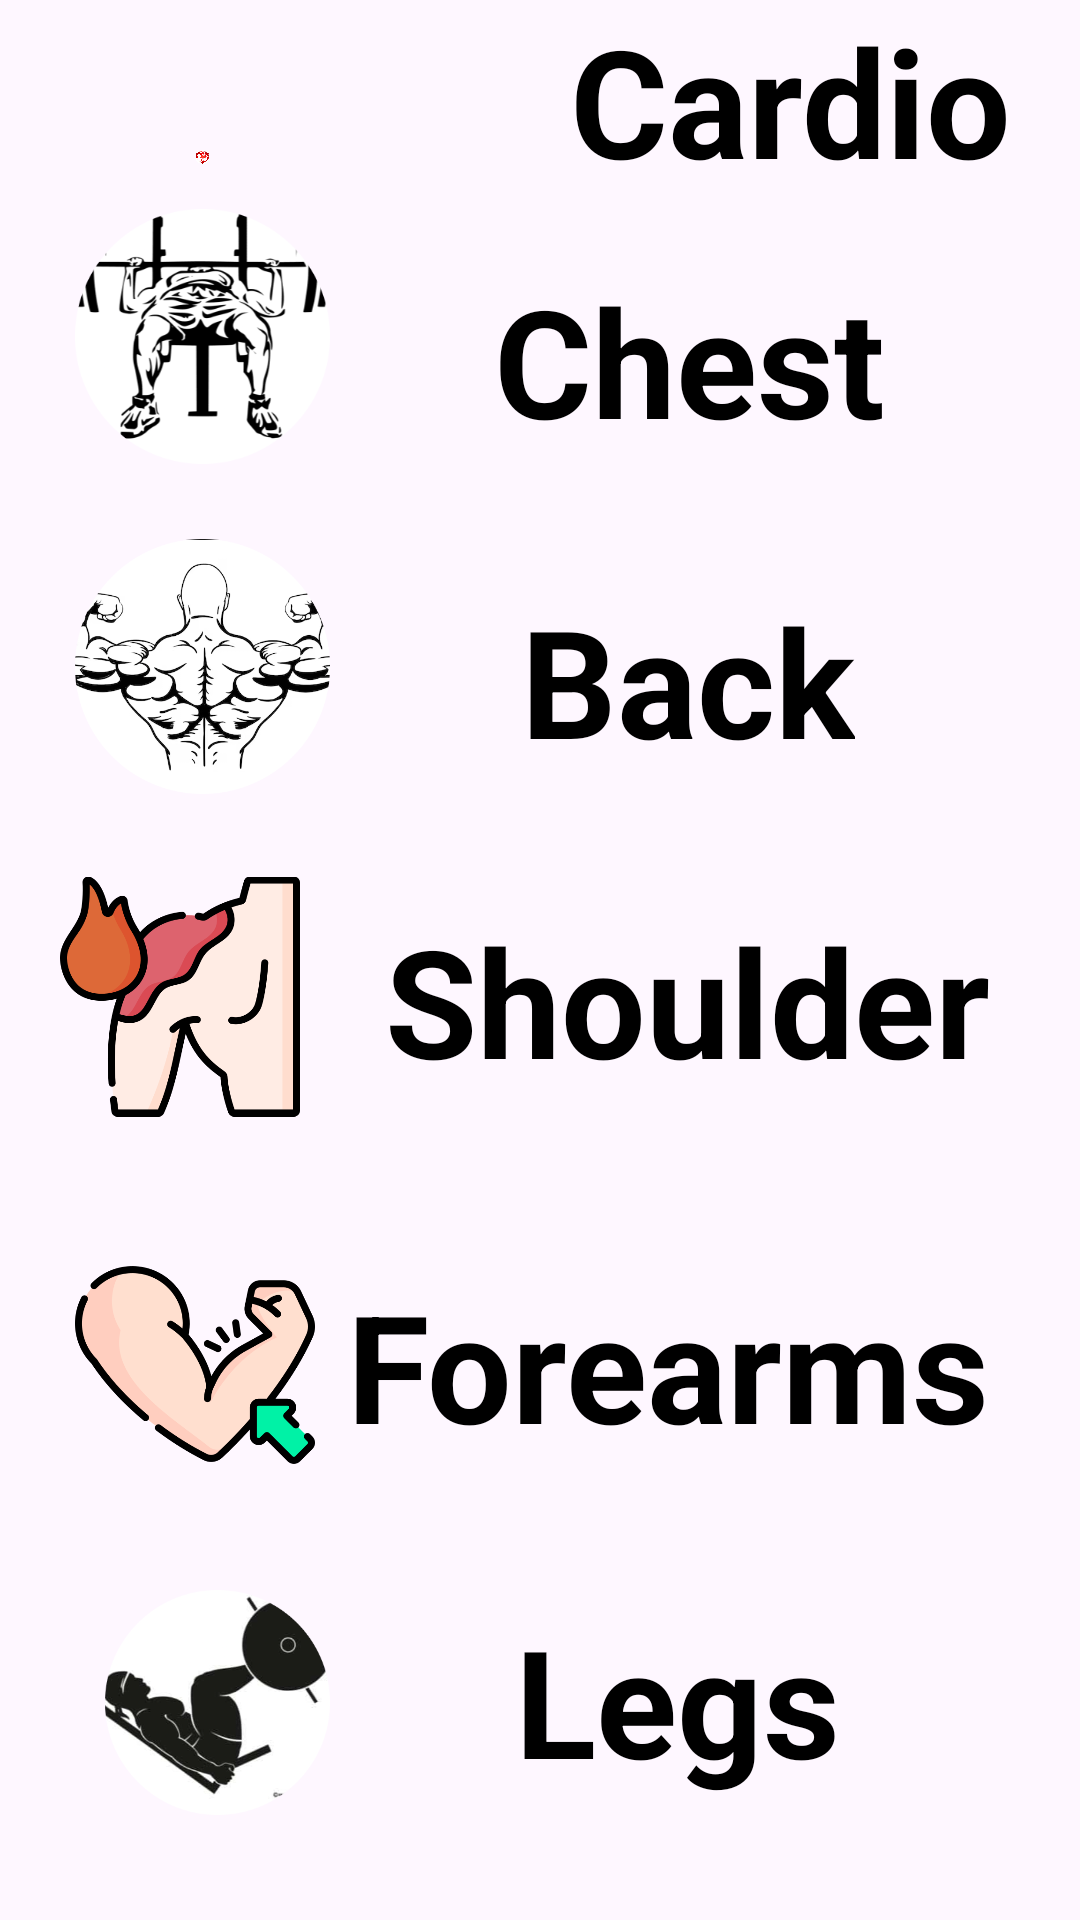

Point at icon controls on the screen. Image size 1080 × 1920, points as [x,y].
back: [202,655]
chest: [202,326]
legs: [217,1702]
